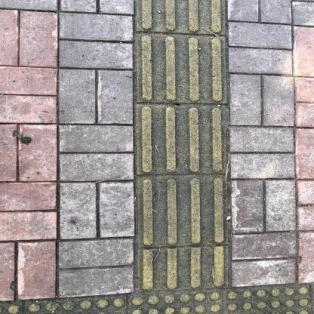Podoctatil: (116, 0, 234, 291), (0, 279, 313, 313)
